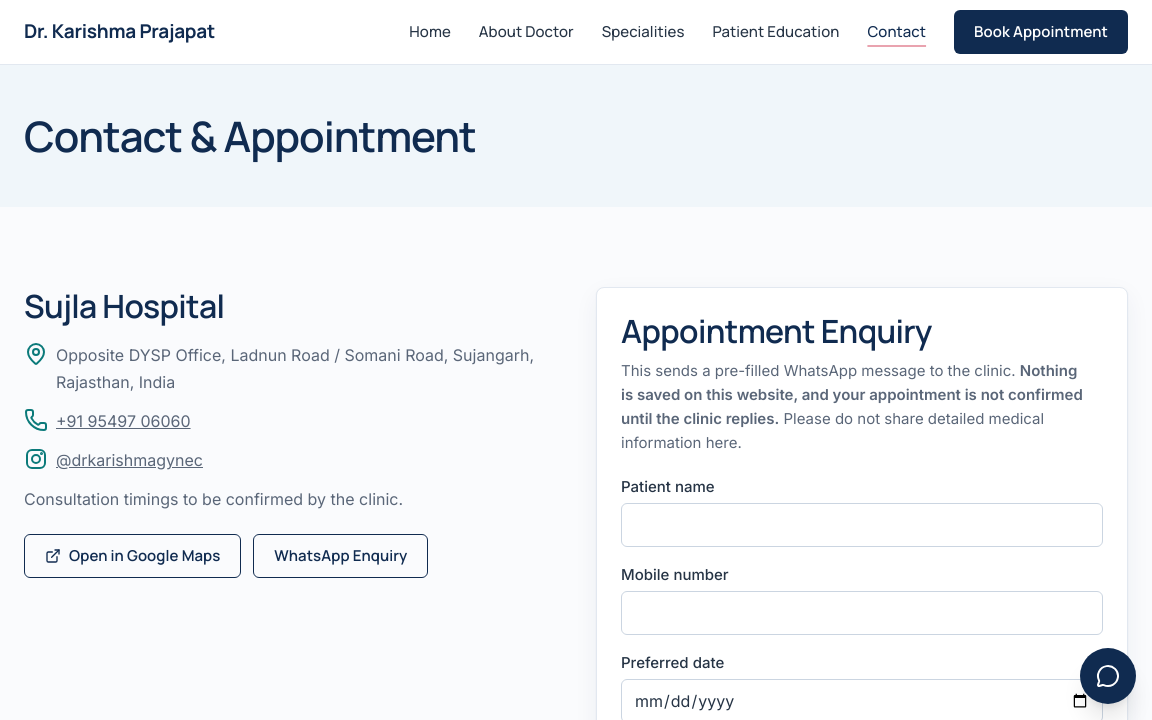
appointment enquiry › opens a prefilled WhatsApp link when valid
The width and height of the screenshot is (1152, 720).
In the field labelled "Patient name": coordinates (862, 525) [621,503,1103,547], type "Asha Sharma"
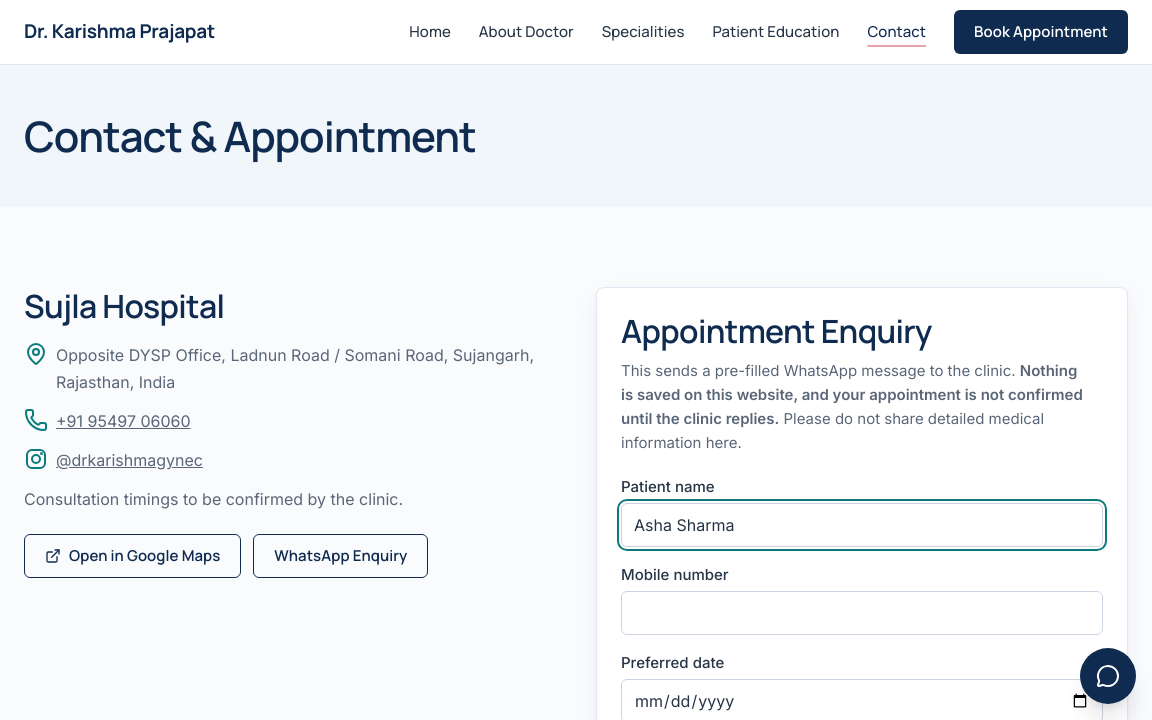
In the field labelled "Mobile number": coordinates (862, 613) [621,591,1103,635], type "9876543210"
(page scrolled)
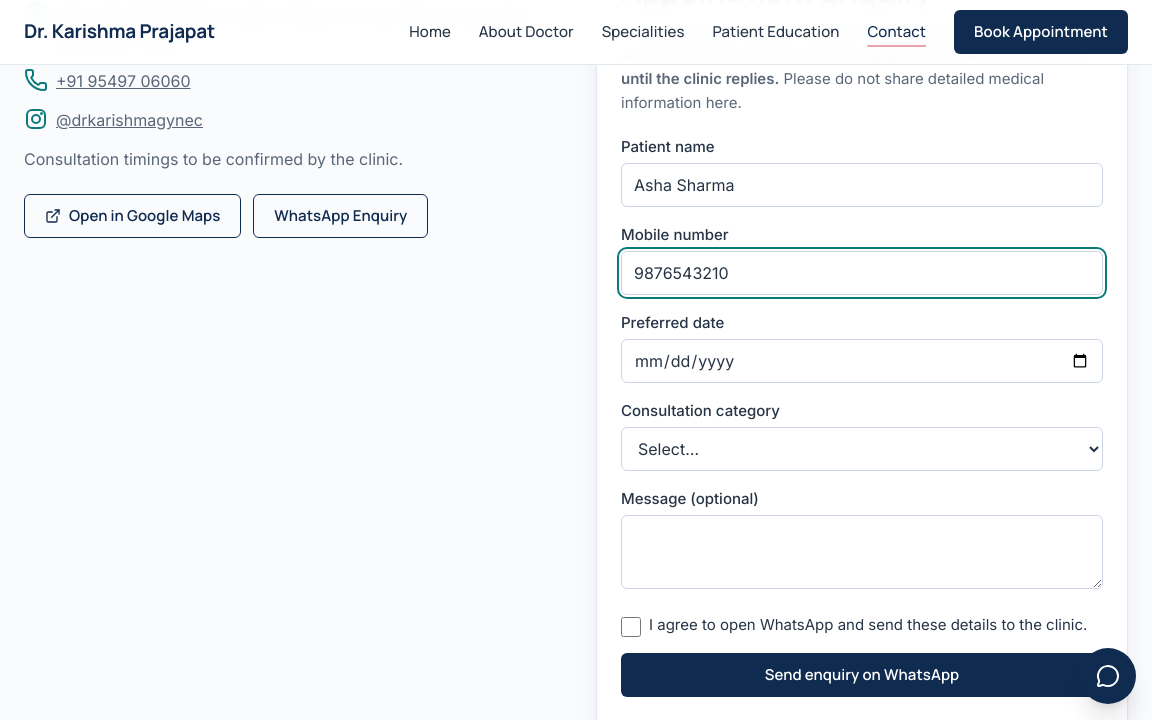
In the date field labelled "Preferred date": coordinates (862, 361) [621,339,1103,383], type "2099-01-01"
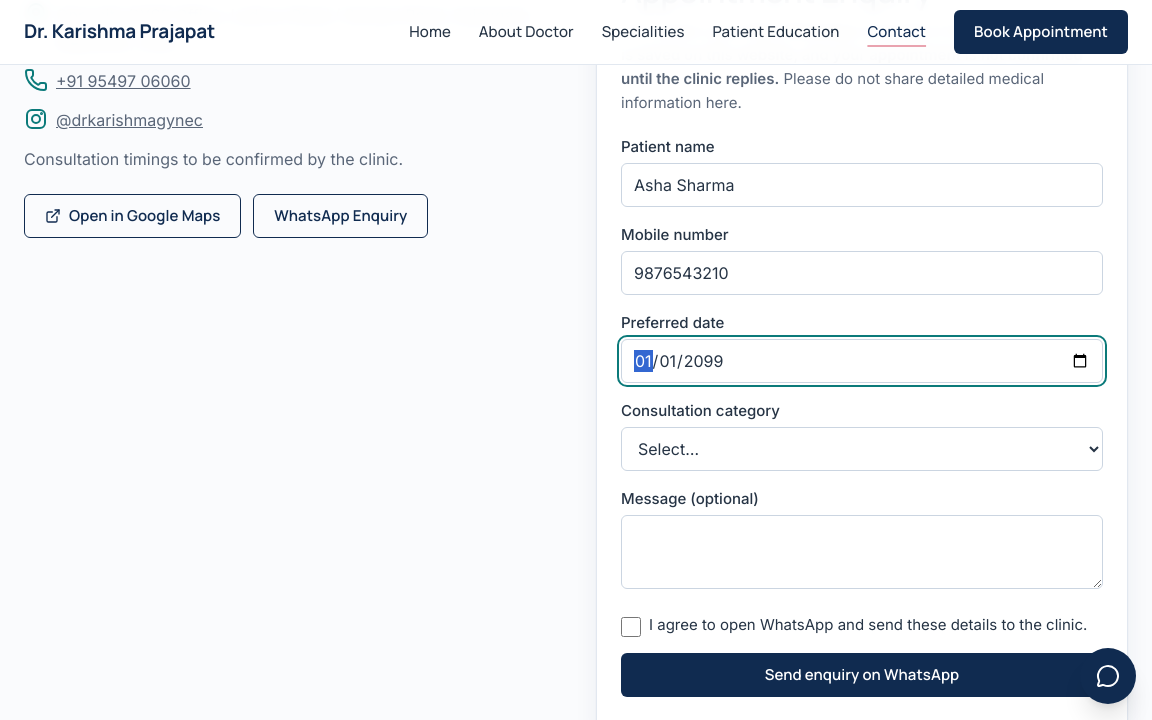
Select "PCOS" in the dropdown labelled "Consultation category": coordinates (862, 449) [621,427,1103,471]
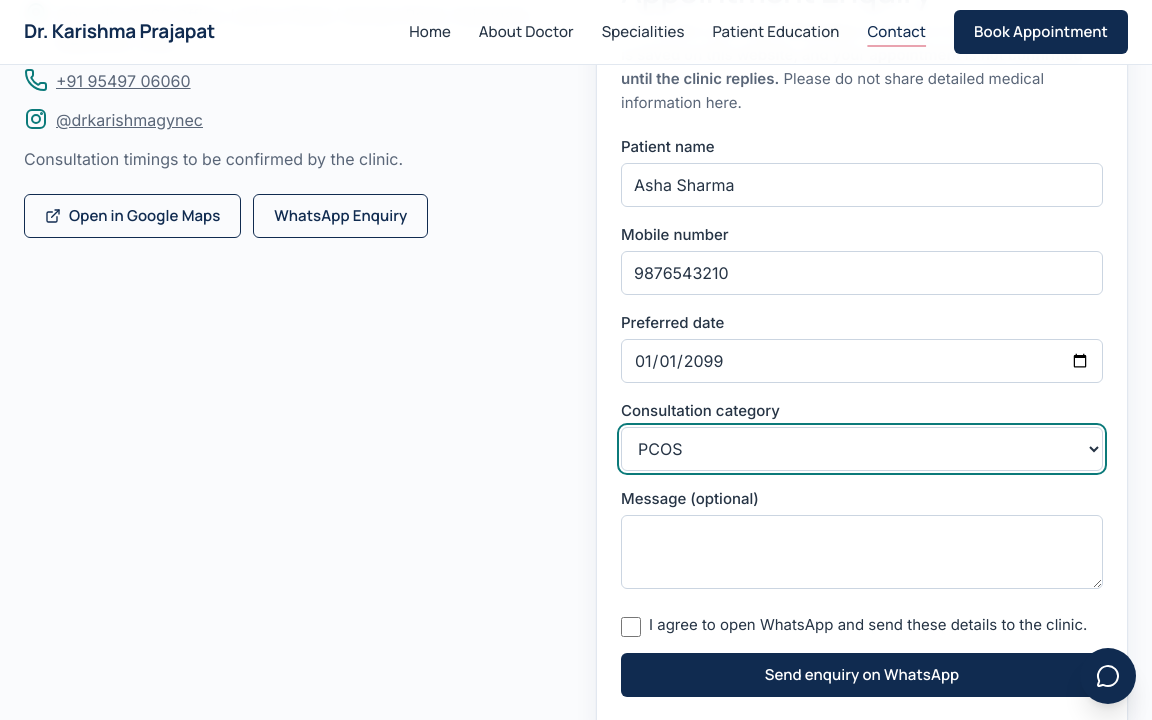
Click the checkbox: coordinates (631, 627) [621,617,641,637]
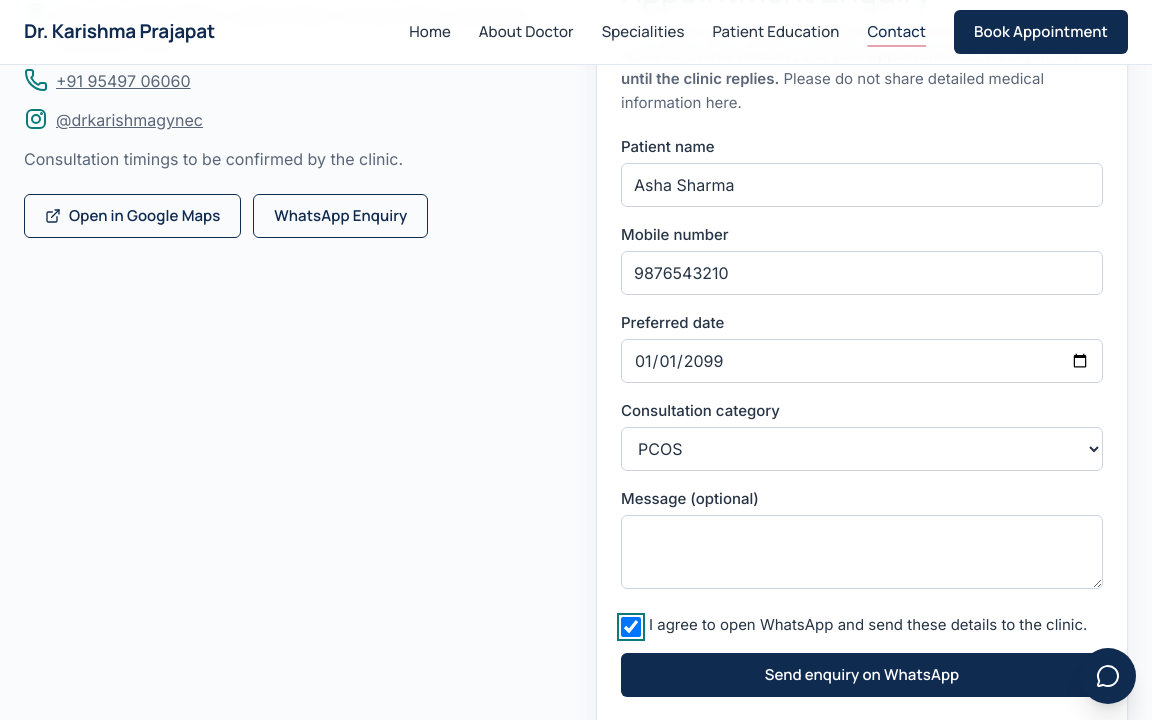
Click the button "Send enquiry on WhatsApp": coordinates (862, 675) [621,653,1103,697]
(page scrolled)
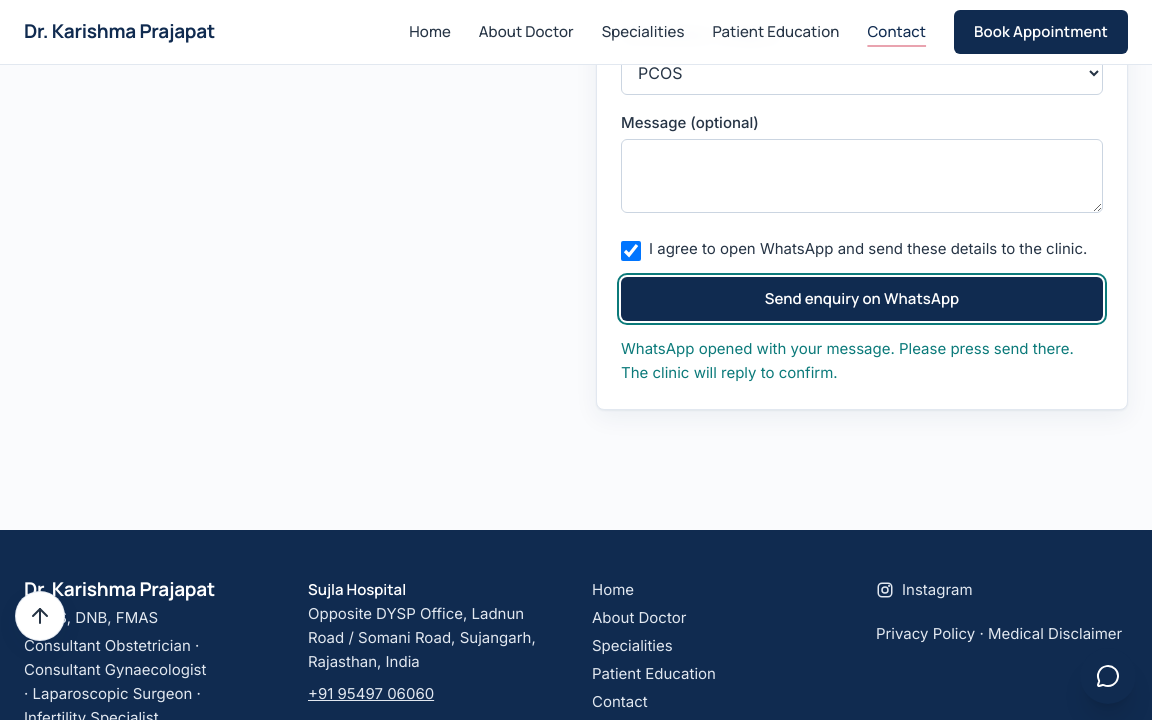
Check: the message shows "clinic will reply", box [621,339,1074,382]
